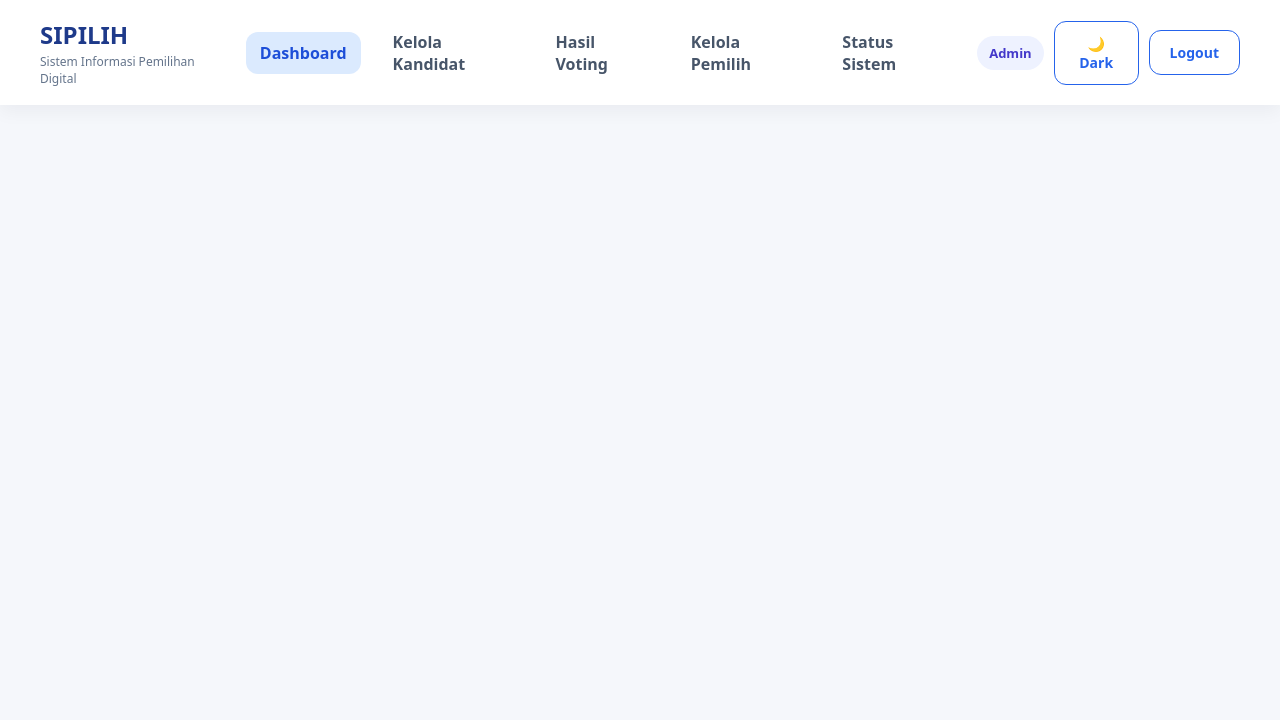
Test: AdminNavbar › menampilkan modal konfirmasi saat tombol logout diklik
This screenshot has width=1280, height=720.
Click the button "Logout".
click(1194, 52)  # box [1149,30,1240,75]
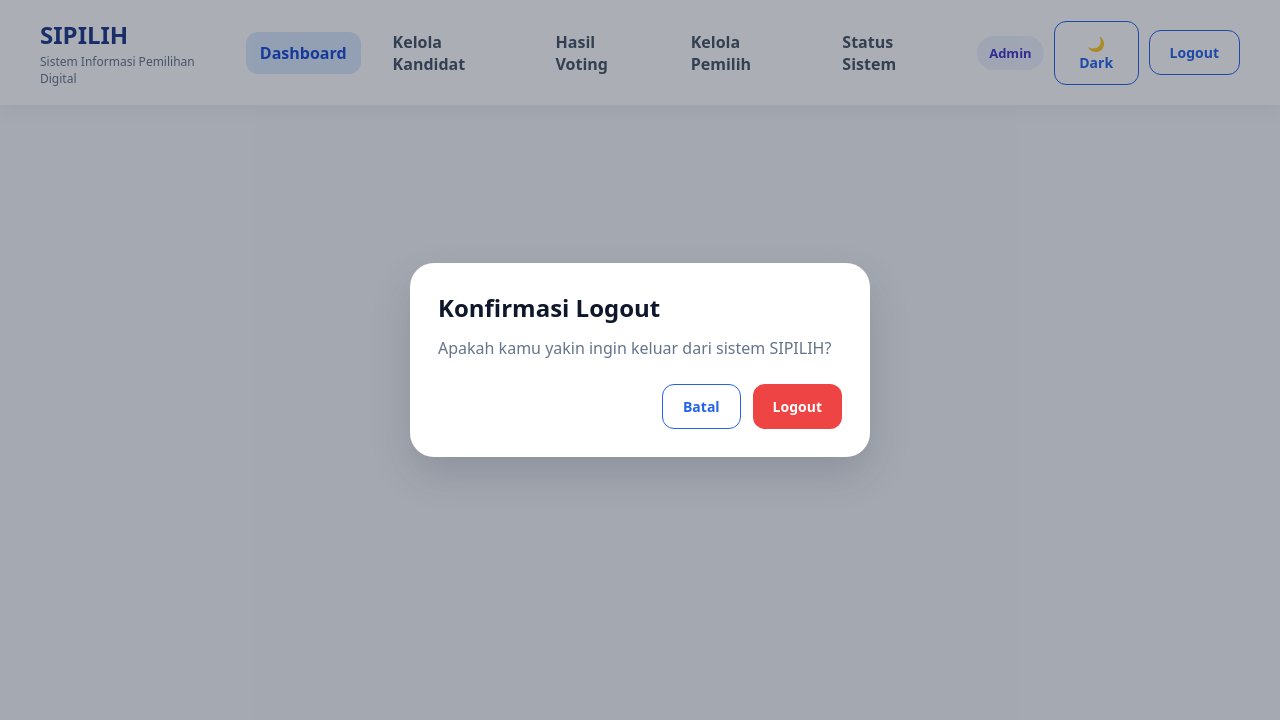
Check: the heading "Konfirmasi Logout" is shown, box [438,291,660,324]
Check: the text "Apakah kamu yakin ingin keluar dari sistem SIPILIH?" is shown, box [438,334,842,362]
